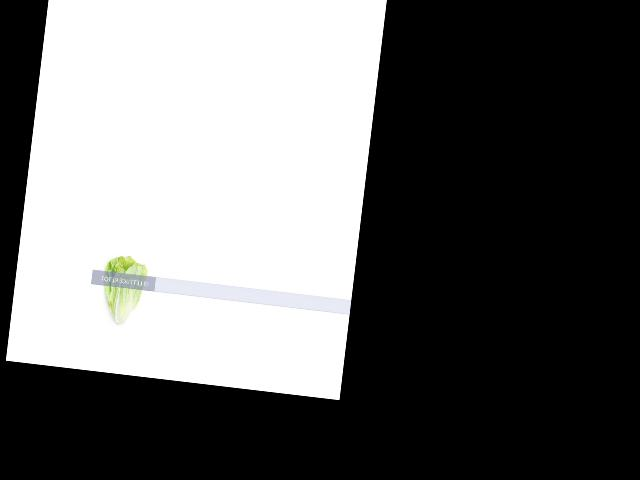lettuce: (94, 253, 150, 333)
